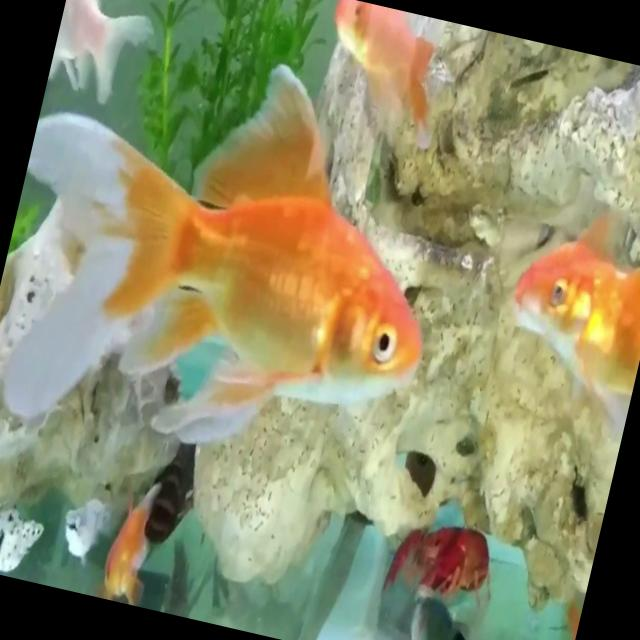GoldFish: (0, 7, 494, 513), (498, 206, 640, 400)
